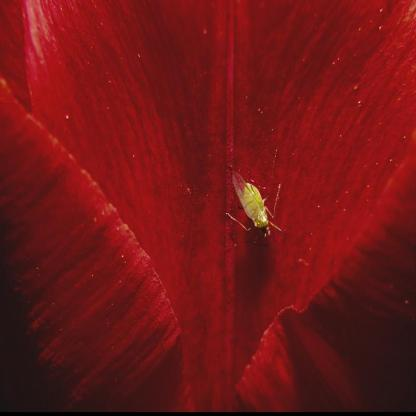aphid: (224, 157, 286, 251)
